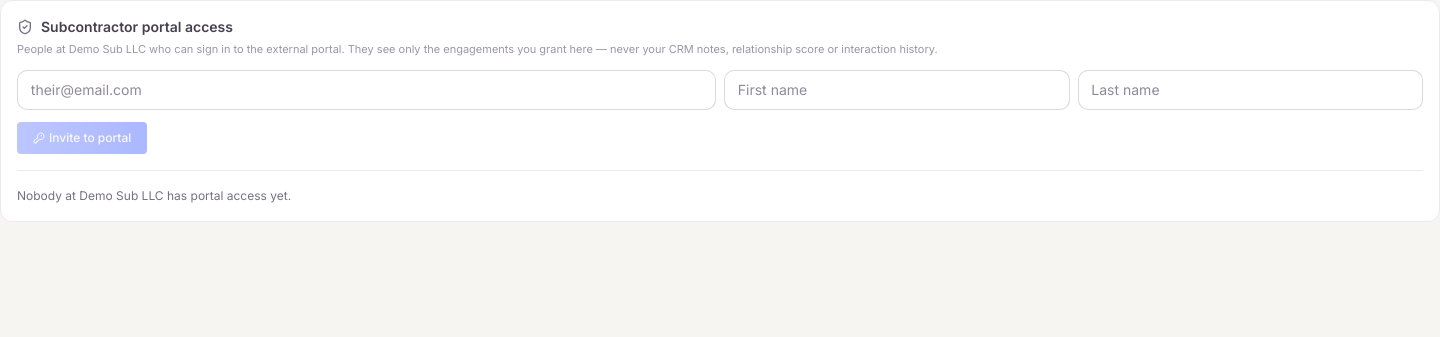
PartnerPortalAccess › shows the invite link once, with the warning that it cannot be shown again
The width and height of the screenshot is (1440, 337).
In the field named "Portal user email": (366, 90) left=17, top=70, right=716, bottom=110, type "new@sub.test"
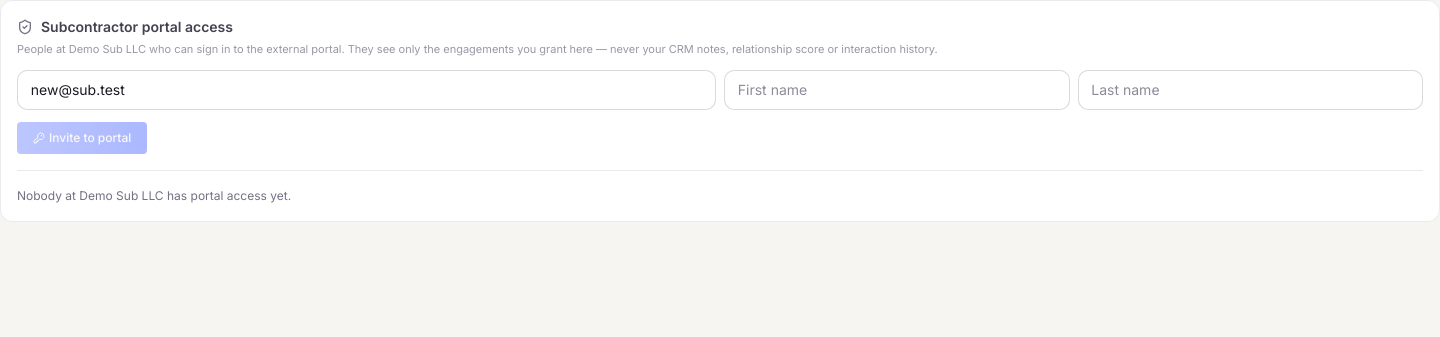
In the field named "Portal user first name": (897, 90) left=724, top=70, right=1070, bottom=110, type "New"
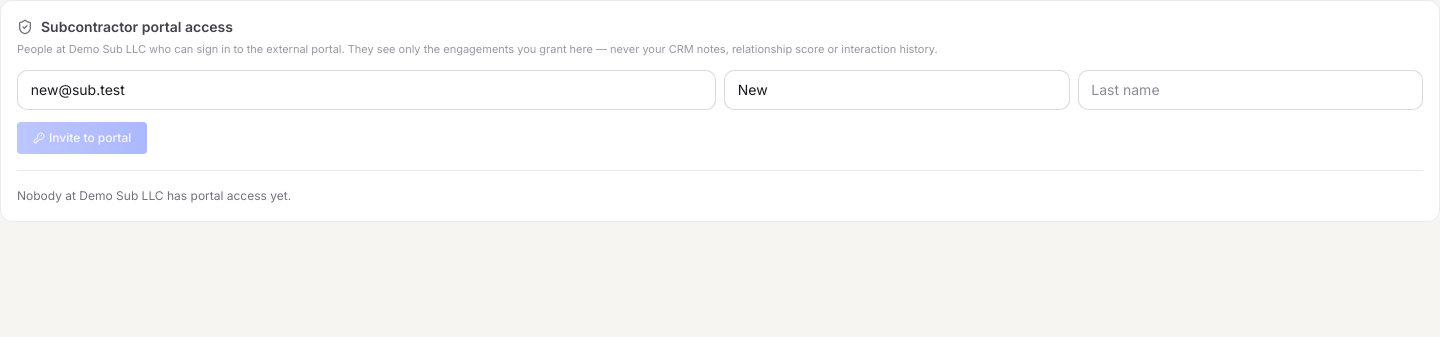
In the field named "Portal user last name": (1250, 90) left=1078, top=70, right=1423, bottom=110, type "Person"
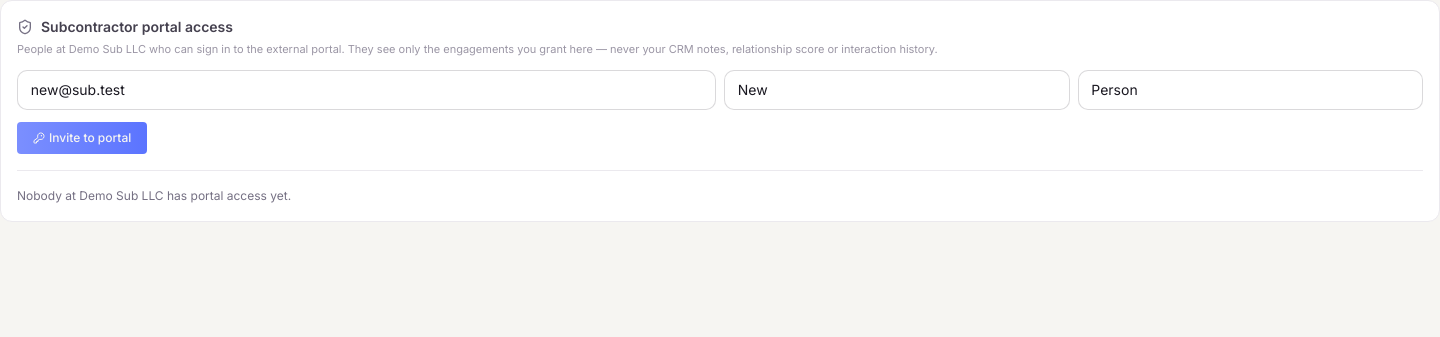
Click the button "Invite to portal": (82, 138) left=17, top=122, right=147, bottom=154
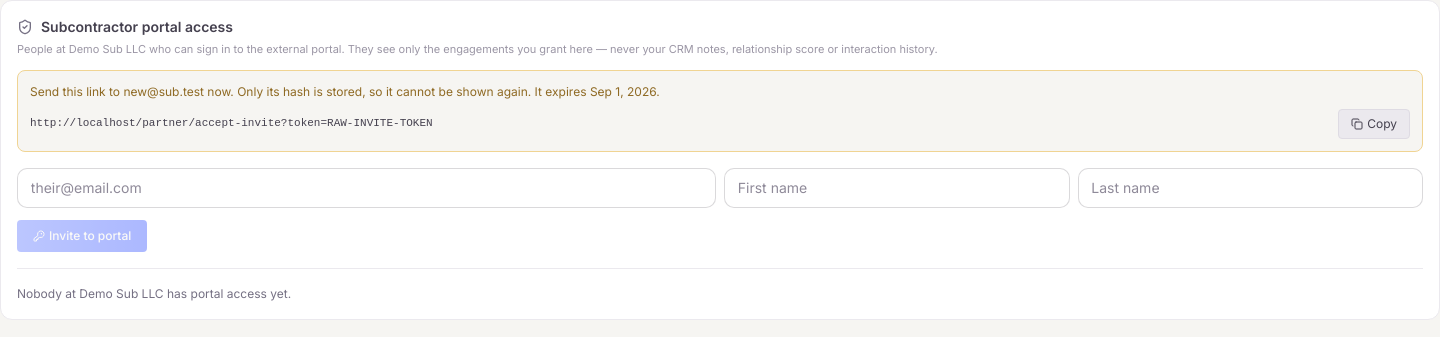
Now the text "cannot be shown again" is shown, box left=204, top=84, right=590, bottom=98
Now the text "/partner/accept-invite" is shown, box left=30, top=117, right=433, bottom=129
